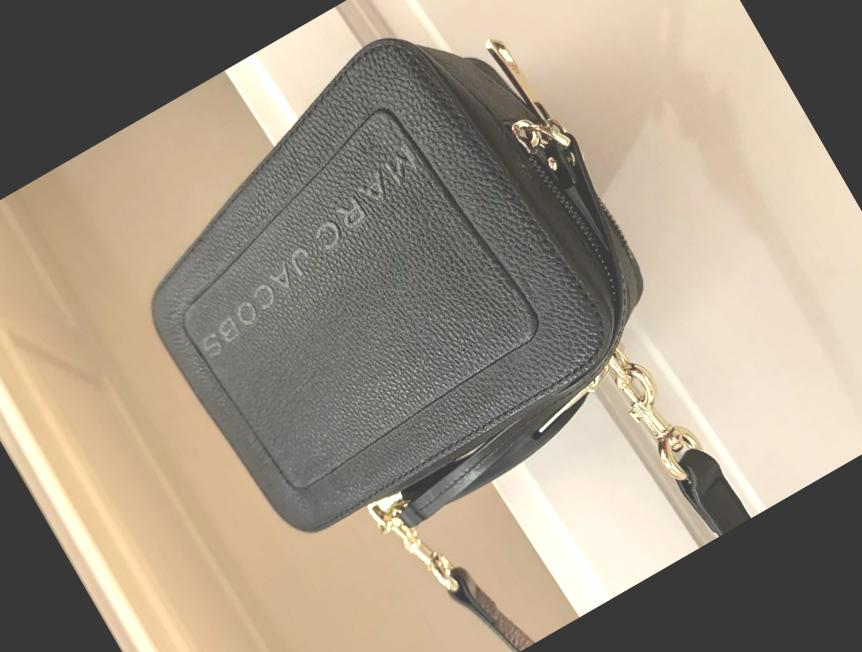MARC-JACOBS: (164, 140, 451, 358)
